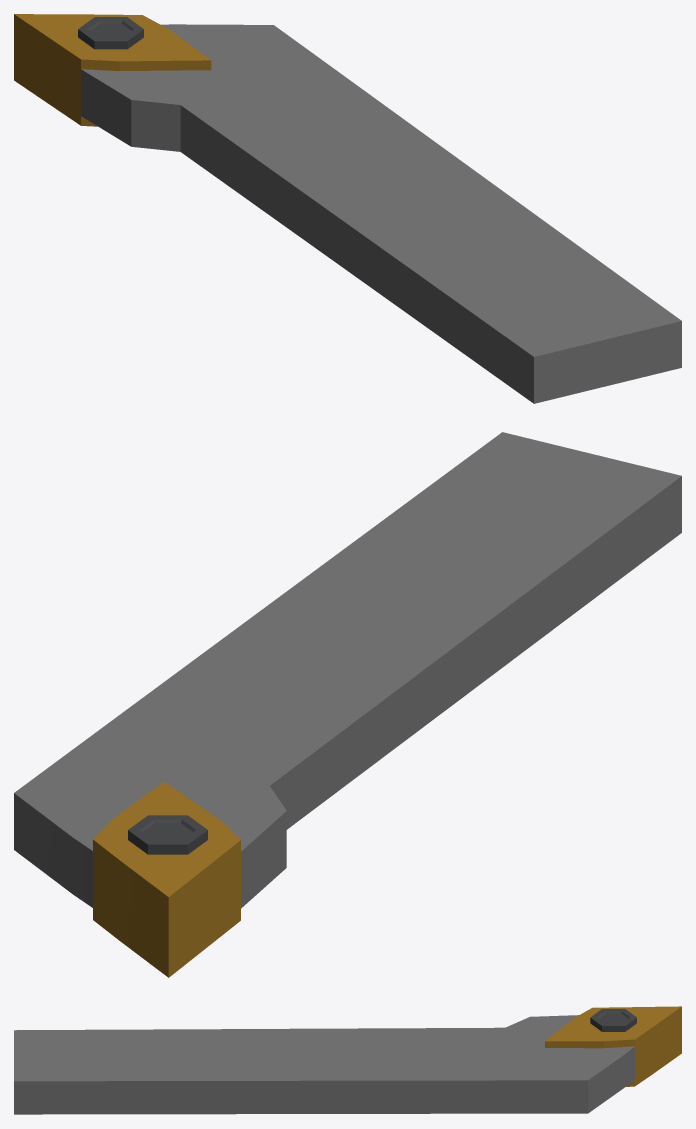
The model's file is MCutter4.fbx.
3 views of the same model, one above another, from view 1: azimuth 30°, elevation 25°; view 2: azimuth 150°, elevation 25°; view 3: azimuth 270°, elevation 25° (orthographic). The views are drawn at different scales.
Parts seen in each view (by area): view 1: Cutter4; view 2: Cutter4; view 3: Cutter4.
Boxes of the visible parts, x1=… form: Cutter4: x1=14, y1=14, x2=681, y2=403; Cutter4: x1=14, y1=432, x2=681, y2=977; Cutter4: x1=14, y1=1006, x2=681, y2=1114.
Bounding box in the file's own units: 48.18 × 19.4 × 200.
